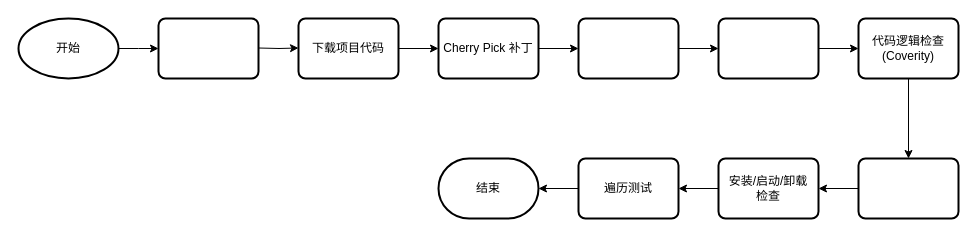
Some shapes in this 976 by 236 pixel diagram are drawn without their labels. The shapes that lost their labels are listed below. From the top down, each one's centre as x and y in pixels, then its label:
the point at 208,48: 准备测试环境
the point at 628,48: 编译项目
the point at 768,48: 代码规范检查(CheckStyle)
the point at 908,188: 包大小检查
